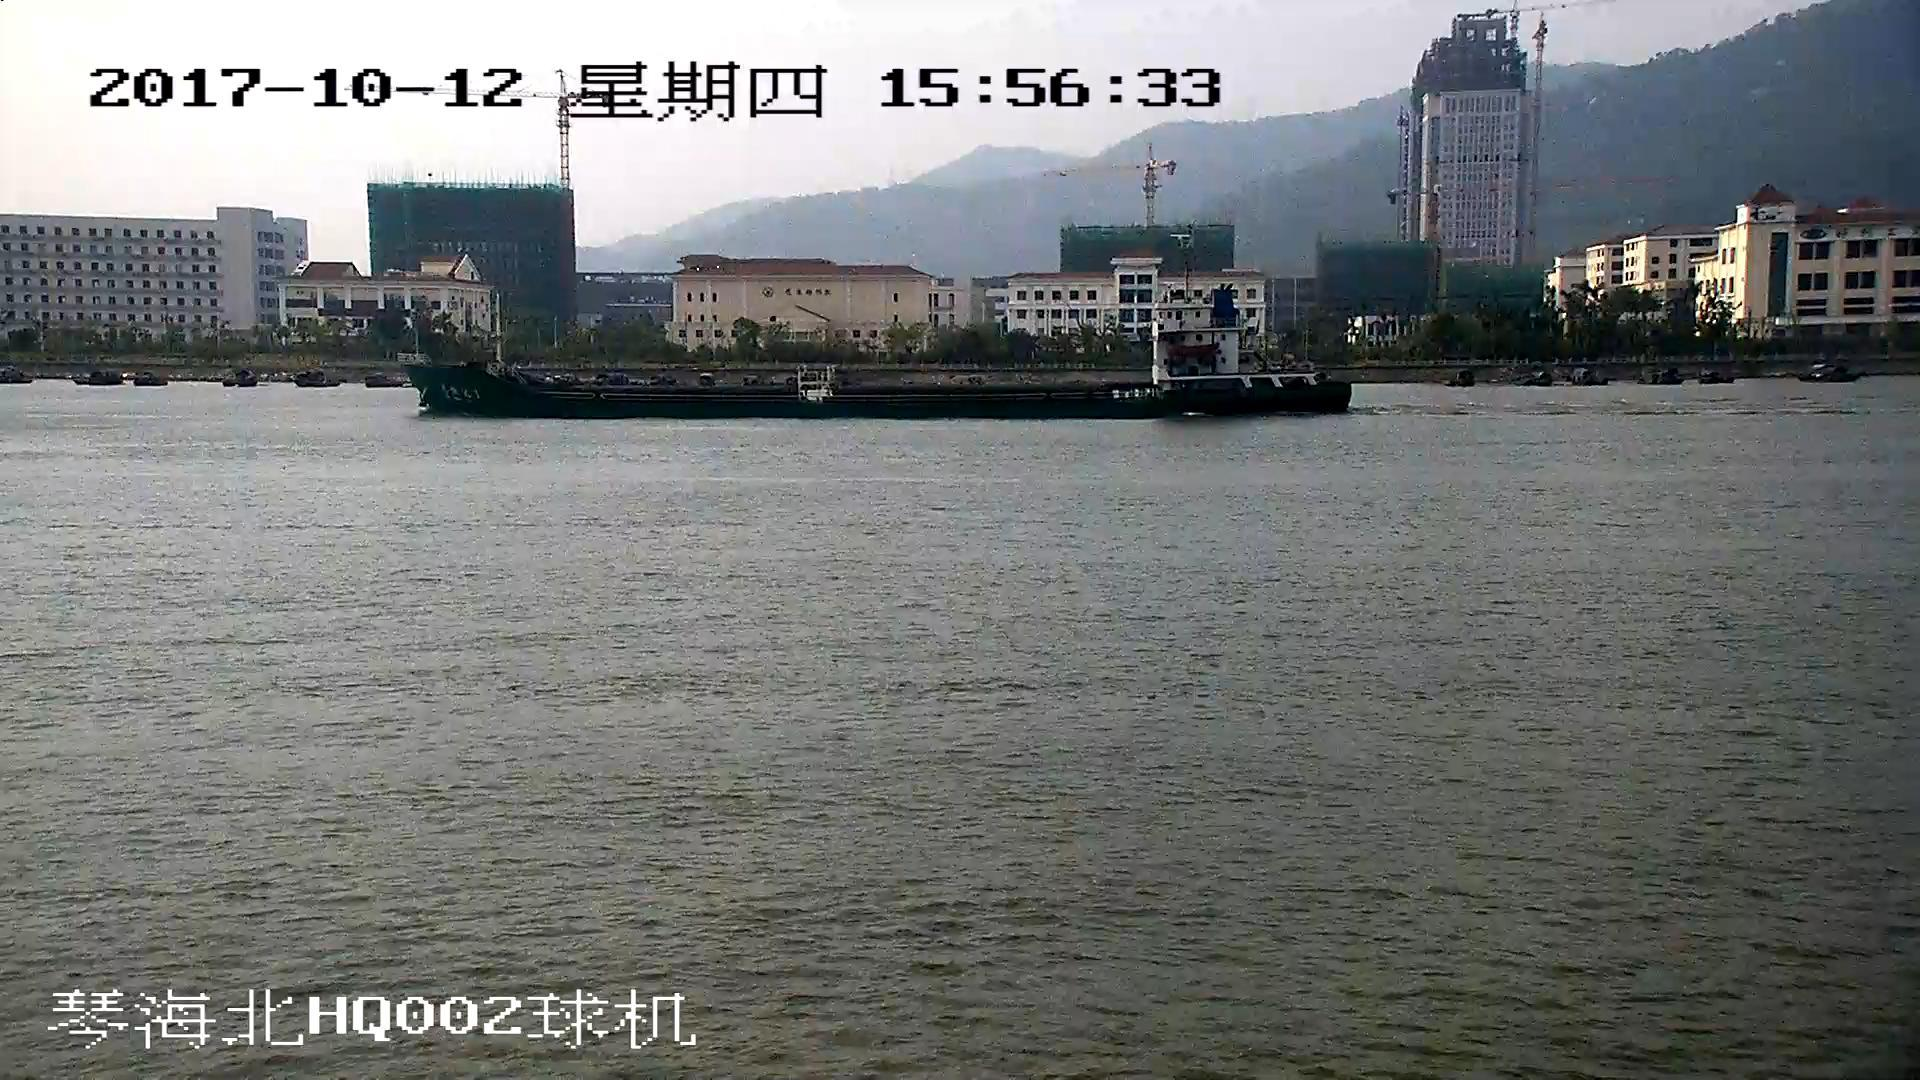Ship: (392, 293, 1352, 415)
